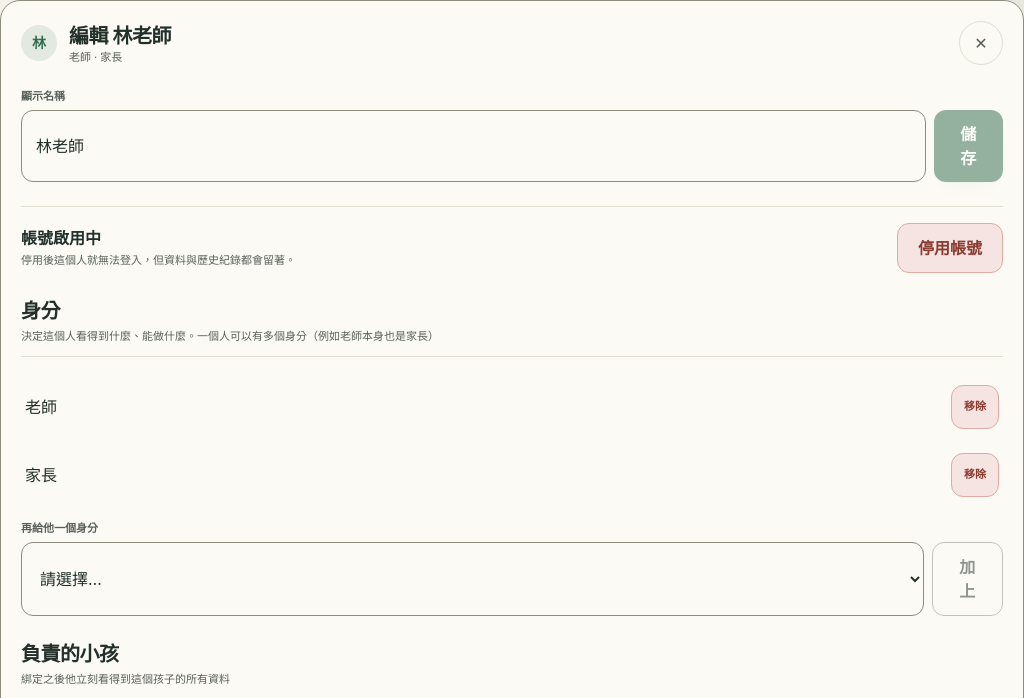
Test: 人員編輯面板的破壞性動作 › 按「停用帳號」不會直接停用，先問一次並說清楚後果
The image size is (1024, 698).
Step 1. Click the button "停用帳號" → (950, 248), box [897,223,1003,273]
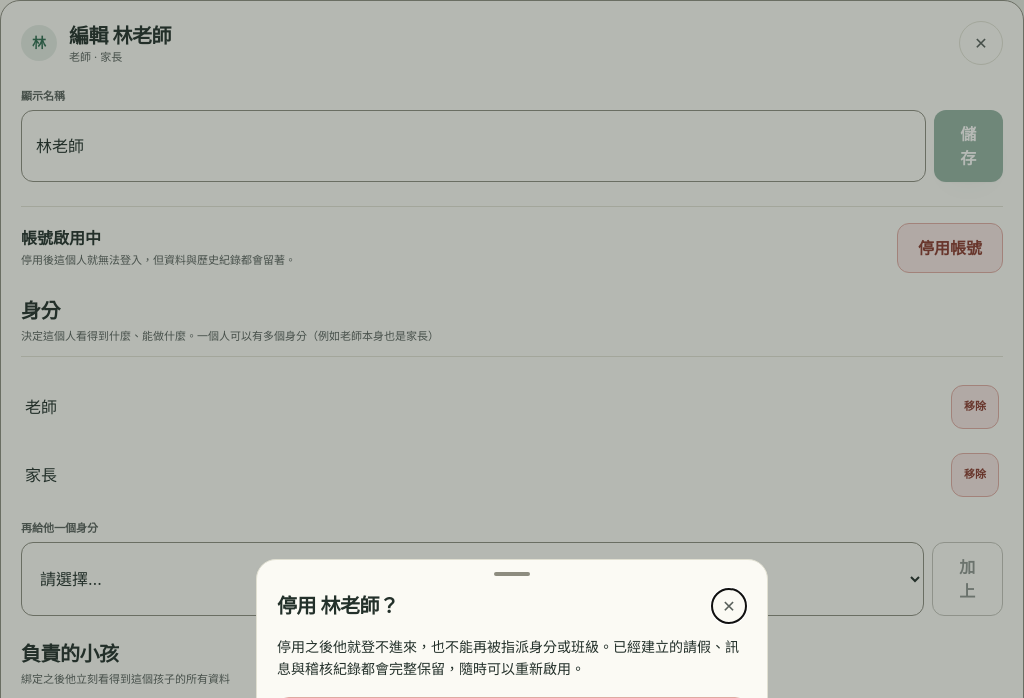
Expected: the text "停用之後他就登不進來，也不能再被指派身分或班級。已經建立的請假、訊息與稽核紀錄都會完整保留，隨時可以重新啟用。" is shown, [277,636,747,681]
